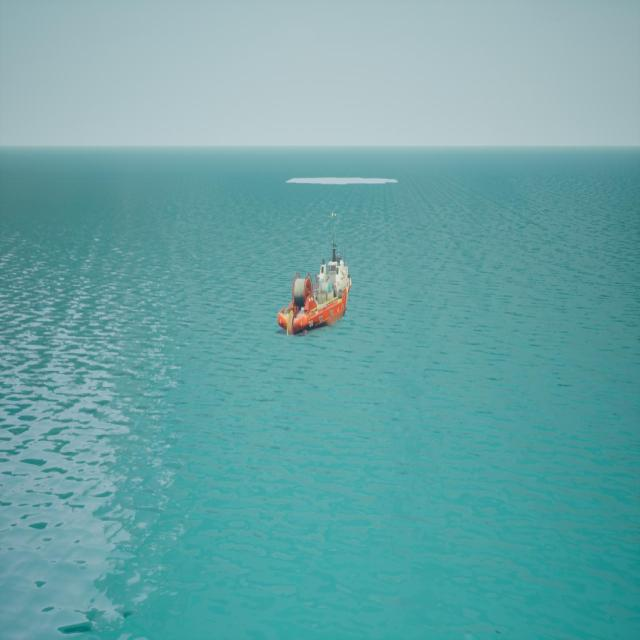tug boat: (278, 204, 353, 342)
